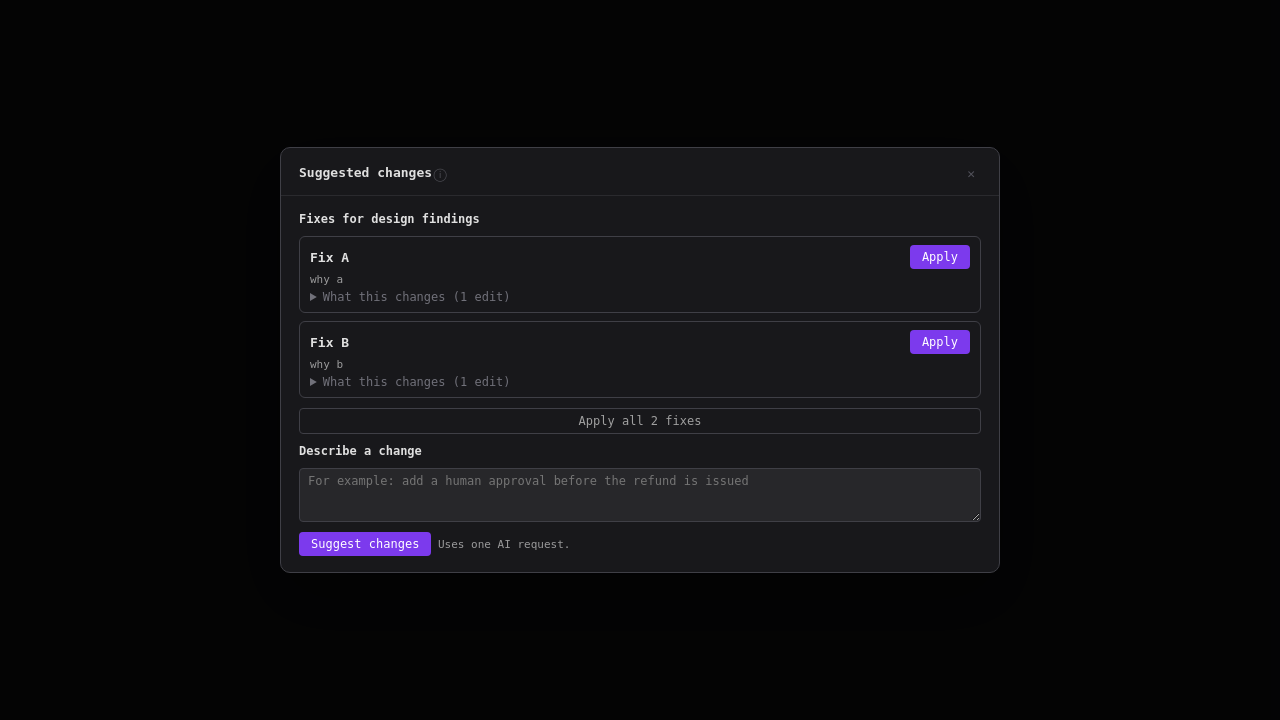
SuggestionsModal — fixes › applies one fix and hands the edited workflow to the caller
Click the button with aria-label "Apply: Fix A": (940, 257) [910,245,970,269]
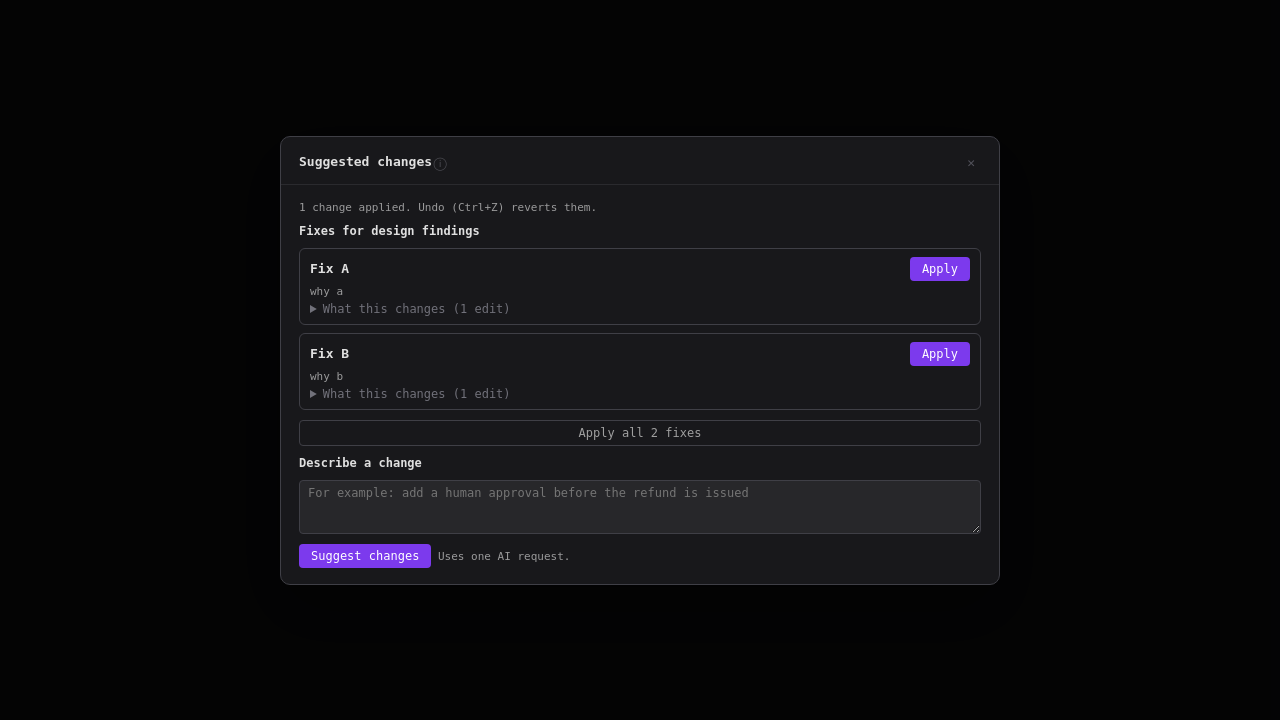
Expected: the message reads "1 change applied. Undo (Ctrl+Z) reverts them.", [299,200,597,214]
